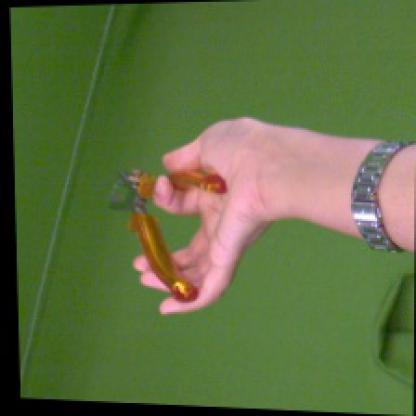Hand: (132, 117, 279, 313)
